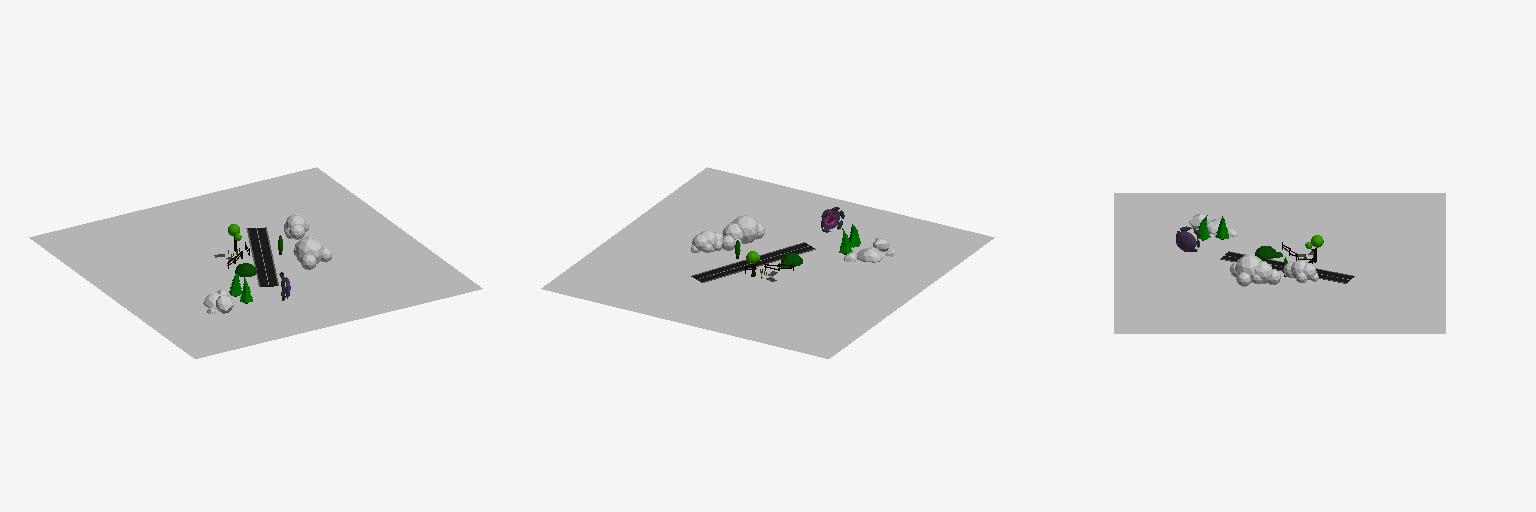
Rendered from scena.obj.
3 views of the same model, side by side, from view 1: azimuth 30°, elevation 25°; view 2: azimuth 150°, elevation 25°; view 3: azimuth 270°, elevation 25° (orthographic).
Parts seen in each view (by area): view 1: Plane, Cube.016; view 2: Plane, Cube.016; view 3: Plane, Cube.016.
Part boxes in pixels (bbox=[...]): Plane: bbox=[29, 167, 482, 358]; Cube.016: bbox=[246, 227, 278, 286]; Plane: bbox=[541, 167, 994, 358]; Cube.016: bbox=[691, 242, 815, 282]; Plane: bbox=[1114, 193, 1445, 333]; Cube.016: bbox=[1220, 251, 1354, 283].
Bounding box in the file's own units: 47.02 × 6.32 × 47.02.